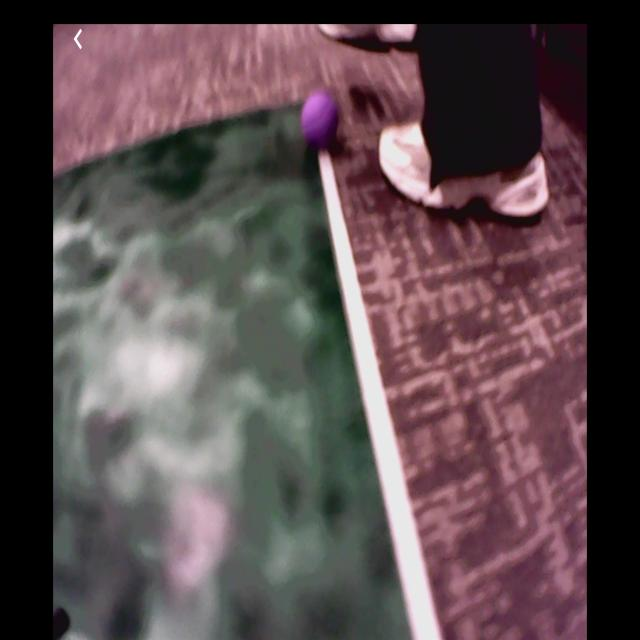ball: (303, 93, 339, 147)
